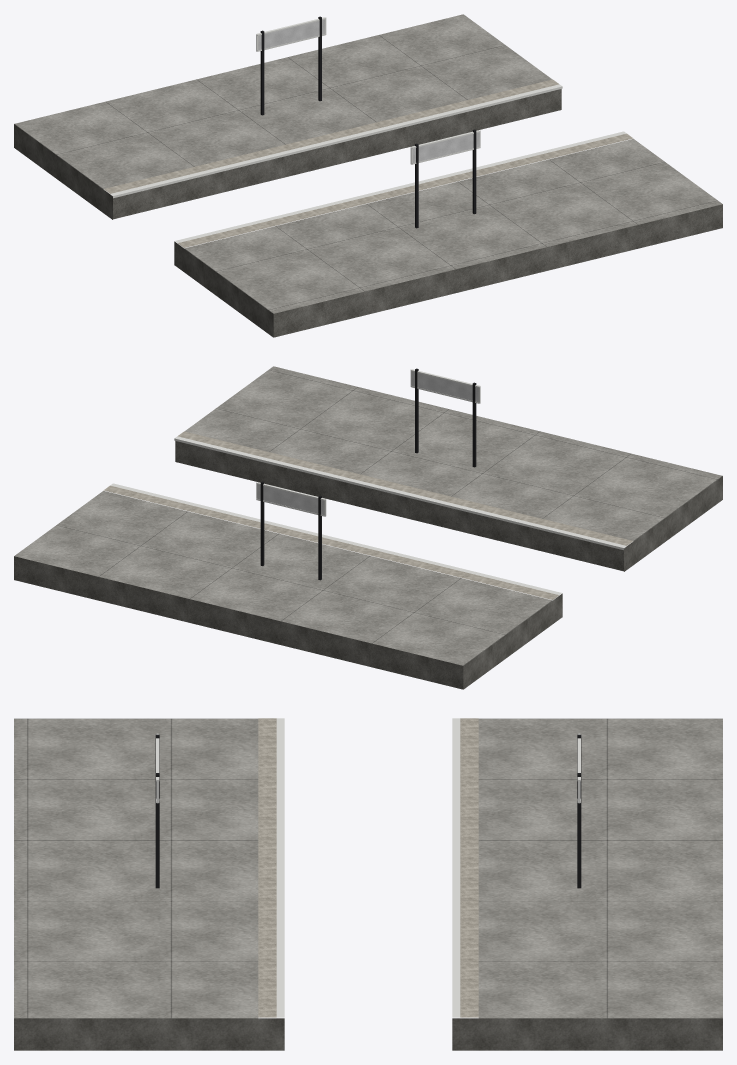
The model's file is peron.glb.
The picture shows the model from 3 angles, top to bottom: view 1: azimuth 30°, elevation 25°; view 2: azimuth 150°, elevation 25°; view 3: azimuth 270°, elevation 25°; orthographic projection. The views are drawn at different scales.
Visible parts, largest first — view 1: dum; view 2: dum; view 3: dum.
Boxes of the visible parts, x1,y1,x2,y2 form: dum: (14,14,722,337); dum: (14,366,722,689); dum: (14,718,722,1050).
Size of the model in its own units: 14.8 by 3.37 by 14.8.
1 material, 1 textured.
